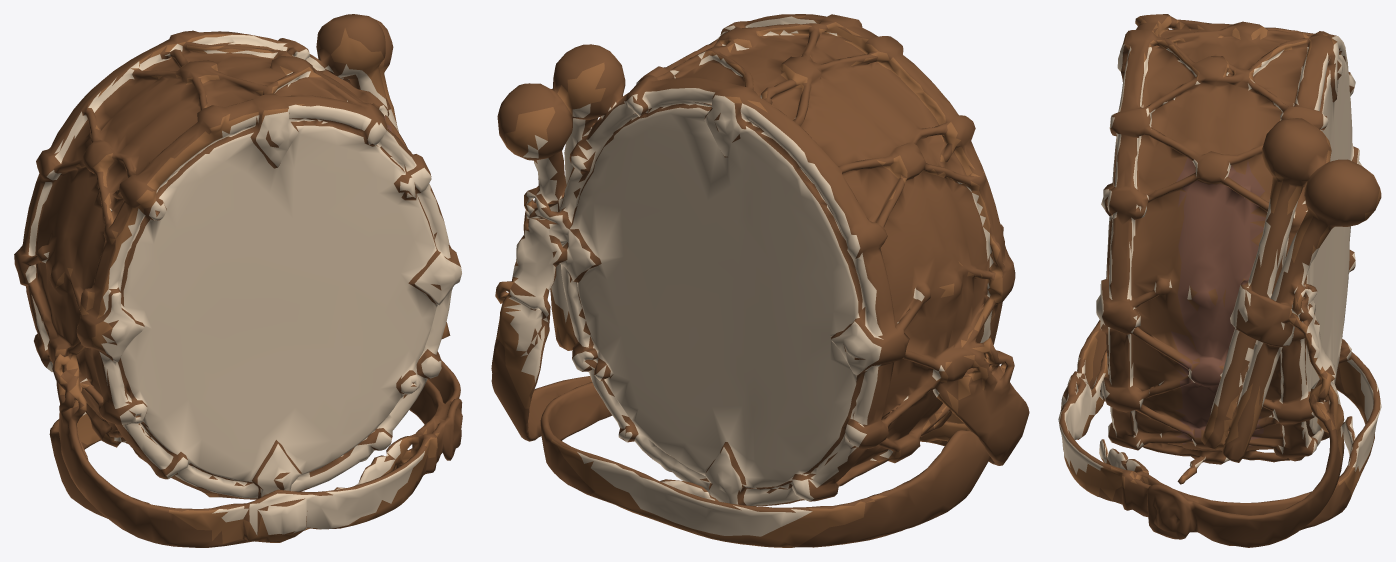
The model's file is tambor.glb.
3 views of the same model, side by side, from view 1: azimuth 30°, elevation 25°; view 2: azimuth 150°, elevation 25°; view 3: azimuth 270°, elevation 25° (orthographic). The views are drawn at different scales.
Visible parts, largest first — view 1: tmp1q2ucam_.ply; view 2: tmp1q2ucam_.ply; view 3: tmp1q2ucam_.ply.
Part boxes in pixels (left/top/right/bottom): tmp1q2ucam_.ply: left=14, top=14, right=462, bottom=547; tmp1q2ucam_.ply: left=491, top=14, right=1029, bottom=547; tmp1q2ucam_.ply: left=1058, top=14, right=1381, bottom=547.
Size of the model in its own units: 1.96 by 1.82 by 1.3.
